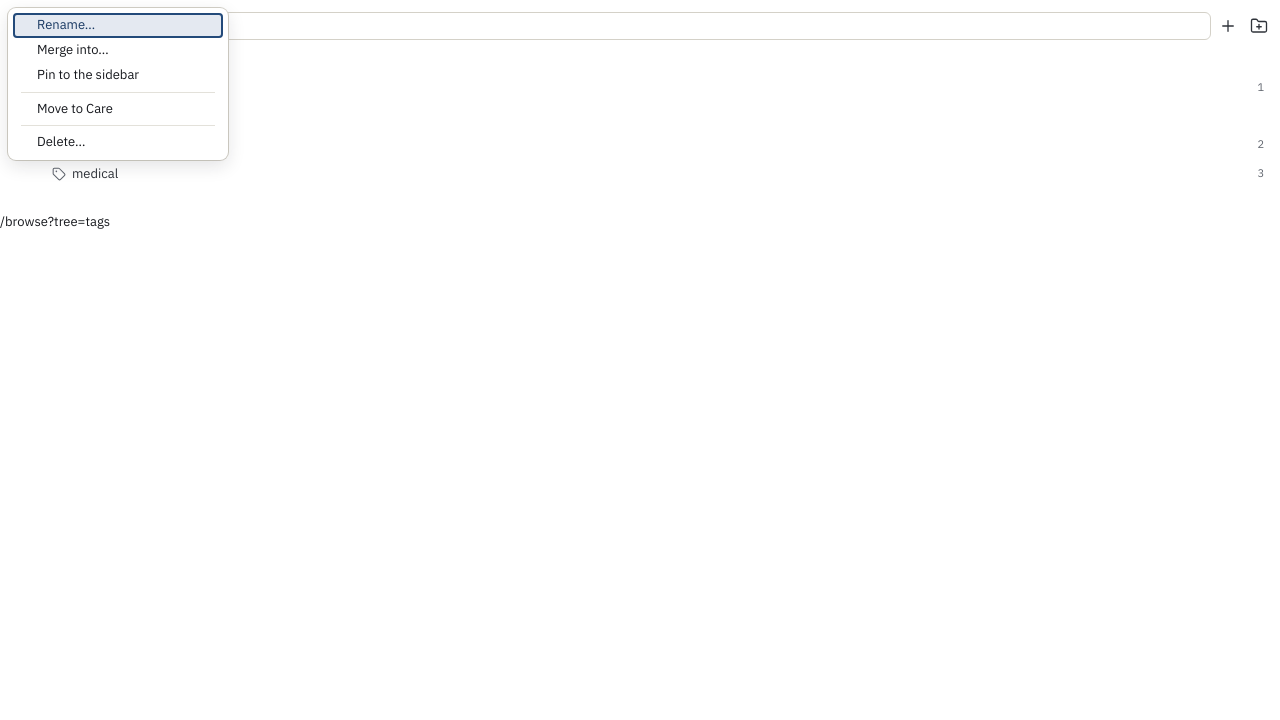
Test: Tag management in Browse's tag tree › renames; a name another tag has offers to merge instead
Click the menu item "Rename…" at (118, 25), box x1=13 y1=13 x2=223 y2=38
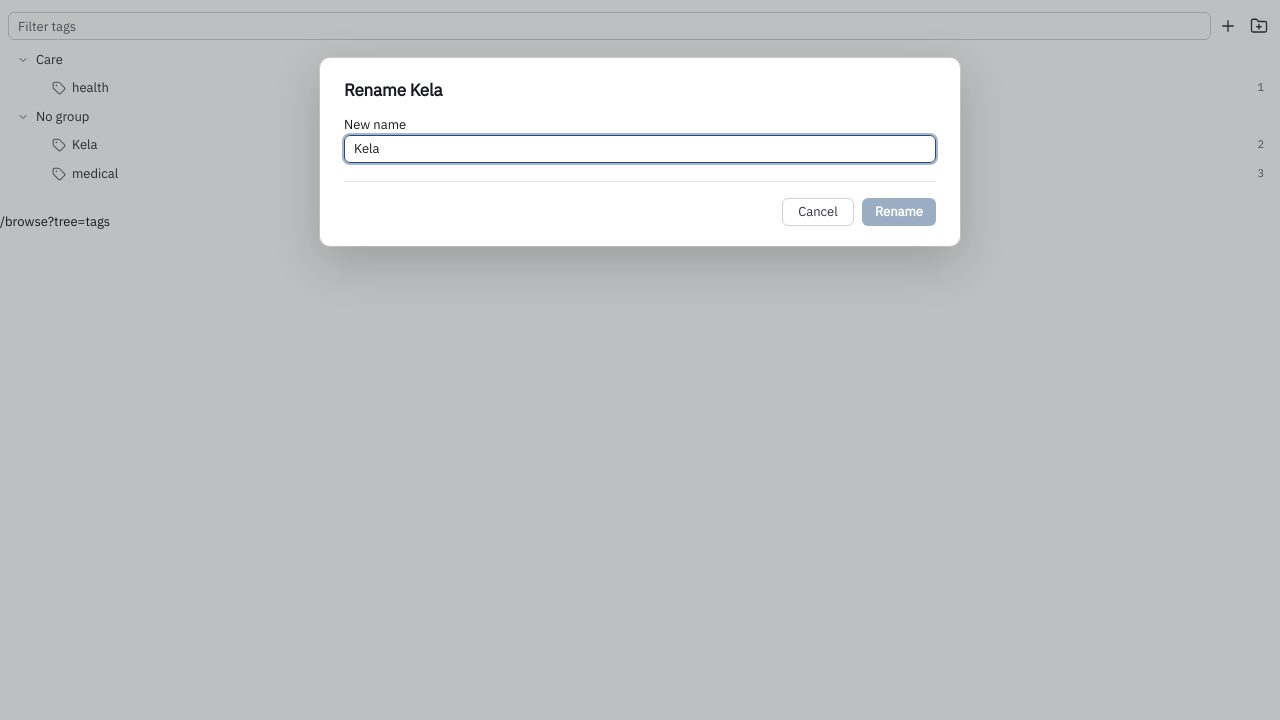
Replace the text in the field labelled "New name" with "Medical" at (640, 149), box x1=344 y1=135 x2=936 y2=163
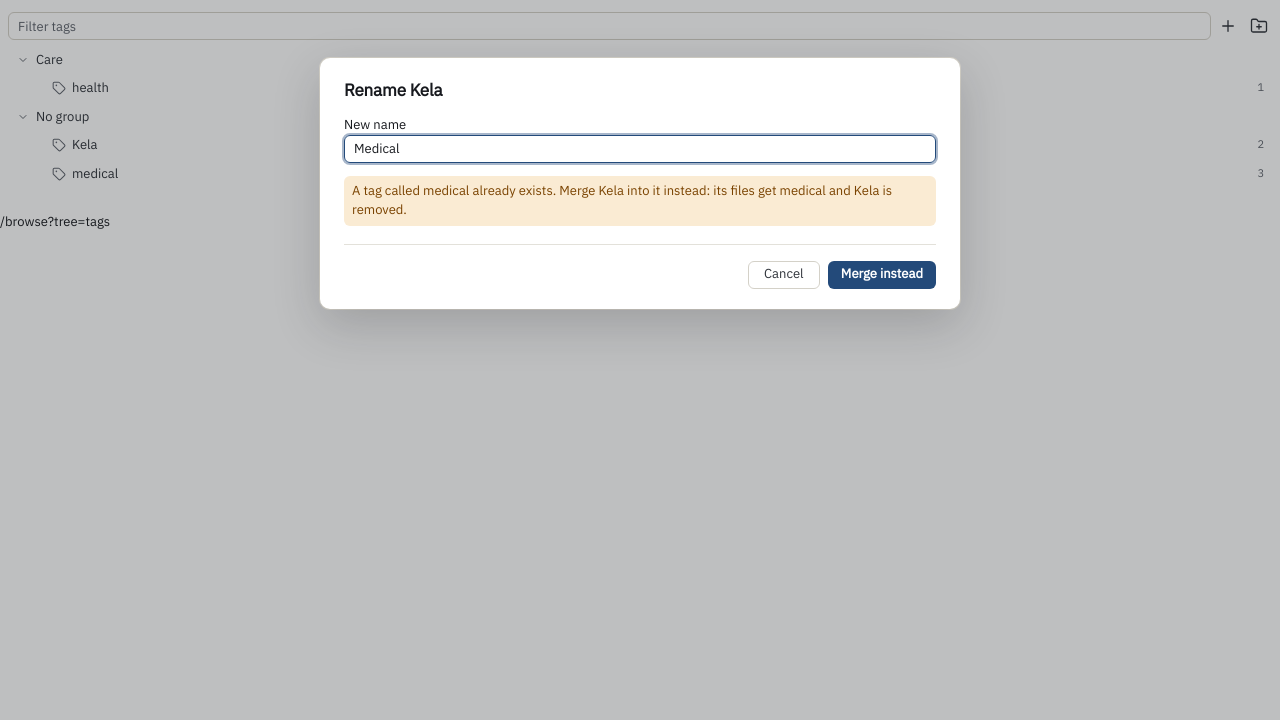
Expected: the text "already exists" is shown, x1=469 y1=182 x2=598 y2=199
Click the button "Merge instead" at (882, 275), box x1=828 y1=261 x2=936 y2=289
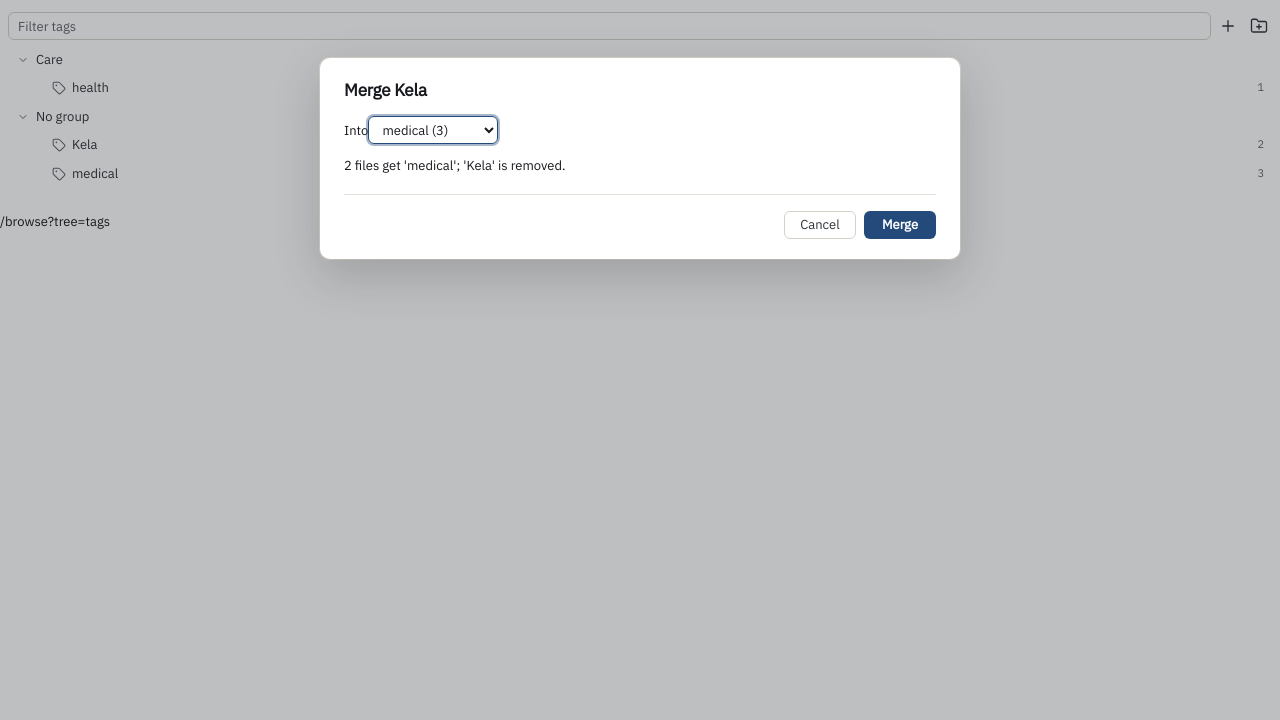
Expected: the text "2 files get 'medical'; 'Kela' is removed." is shown, x1=344 y1=157 x2=566 y2=174
Expected: the dropdown labelled "Into" shows "medical (3)", x1=368 y1=116 x2=498 y2=144
Click the button "Merge" at (900, 225), box x1=864 y1=211 x2=936 y2=239
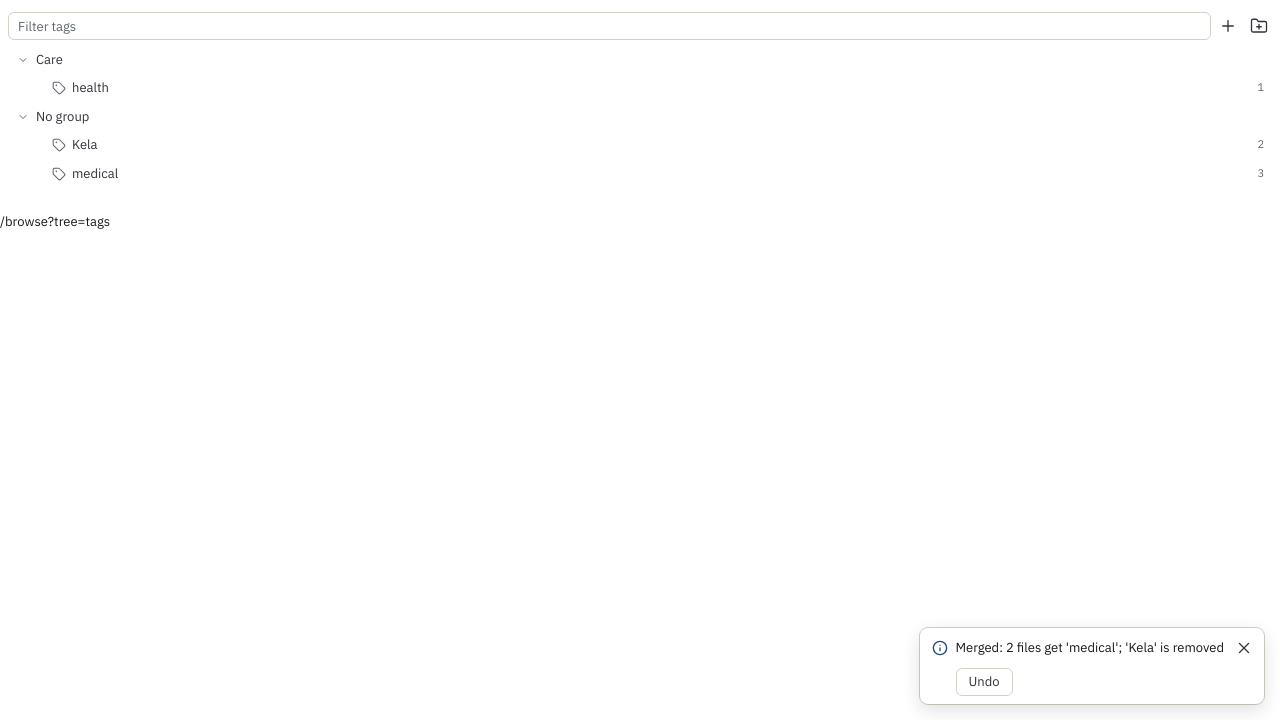
Expected: the text "Merged: 2 files get 'medical'; 'Kela' is removed" is shown, x1=956 y1=639 x2=1224 y2=657
